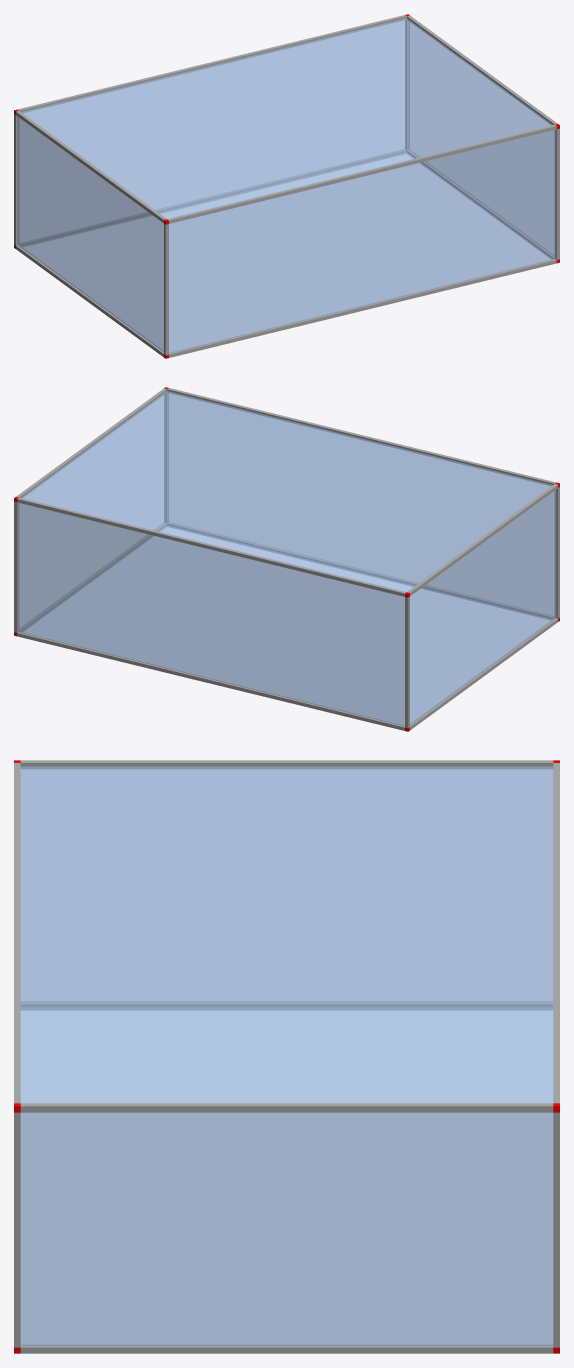
File: parallelepiped.glb
3 renders of one model, top to bottom at view 1: azimuth 30°, elevation 25°; view 2: azimuth 150°, elevation 25°; view 3: azimuth 270°, elevation 25°, orthographic. The views are drawn at different scales.
Visible parts, largest first — view 1: Par; view 2: Par; view 3: Par.
Part boxes in pixels (bbox=[...]): Par: bbox=[14, 14, 559, 358]; Par: bbox=[14, 387, 559, 731]; Par: bbox=[14, 760, 559, 1353].
Bounding box in the file's own units: 60 × 20 × 40.
